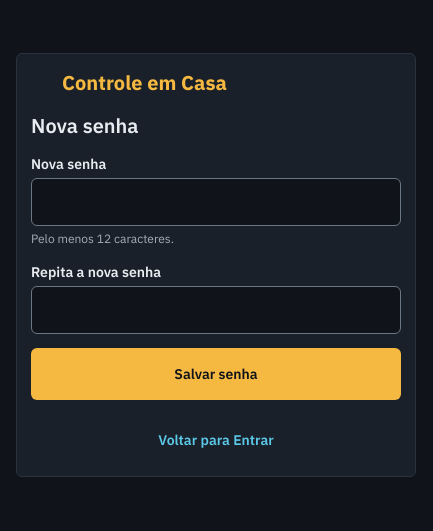
T01b Redefinir senha › API recusa por link expirado: aviso de link expirado no topo
Type "senha-nova-segura" into the password field labelled "Nova senha" at point(216, 202), box [31,178,401,226]
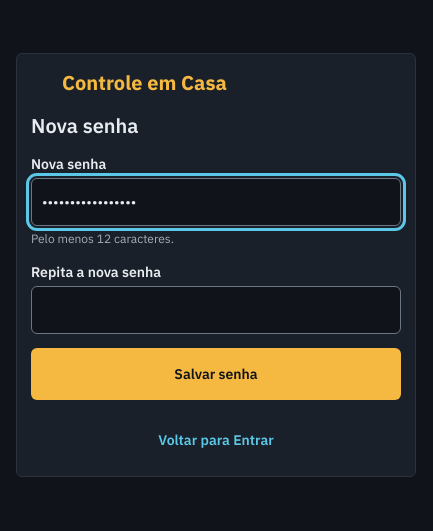
Type "senha-nova-segura" into the password field labelled "Repita a nova senha" at point(216, 310), box [31,286,401,334]
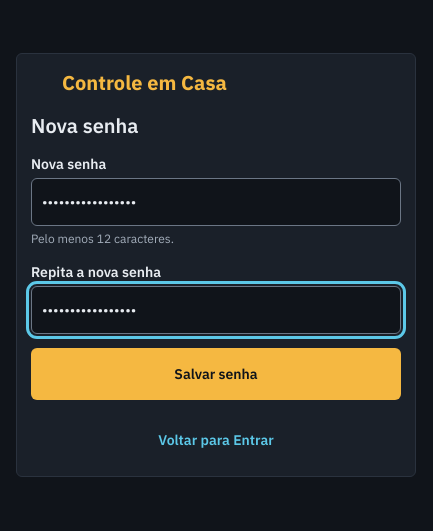
Click the button "Salvar senha" at point(216, 374), box [31,348,401,400]
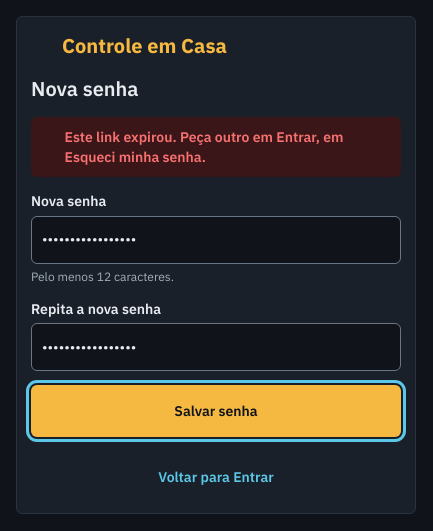
Check: the message shows "expir", box [64,128,344,166]
